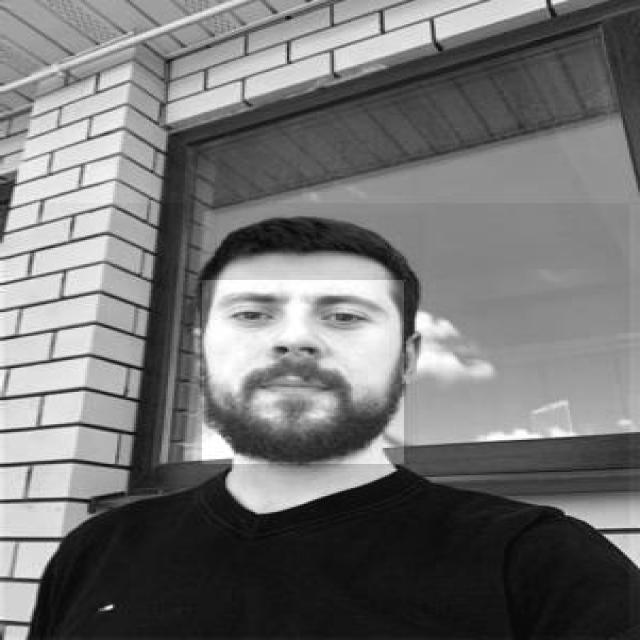face_nomask: (202, 280, 404, 464)
head_nohelmet: (215, 213, 425, 283)
person: (2, 204, 629, 638)
